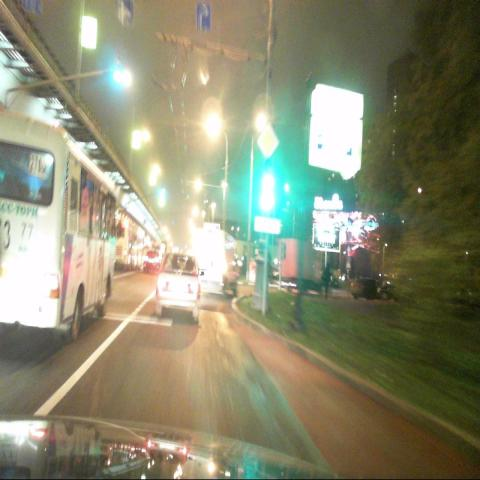5_15_2: (117, 0, 132, 27)
